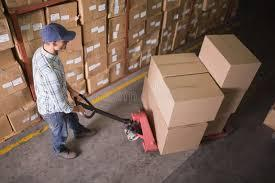Boxes: (155, 72, 224, 130), (198, 34, 261, 90), (147, 52, 208, 102), (148, 108, 209, 157), (211, 87, 246, 120)
